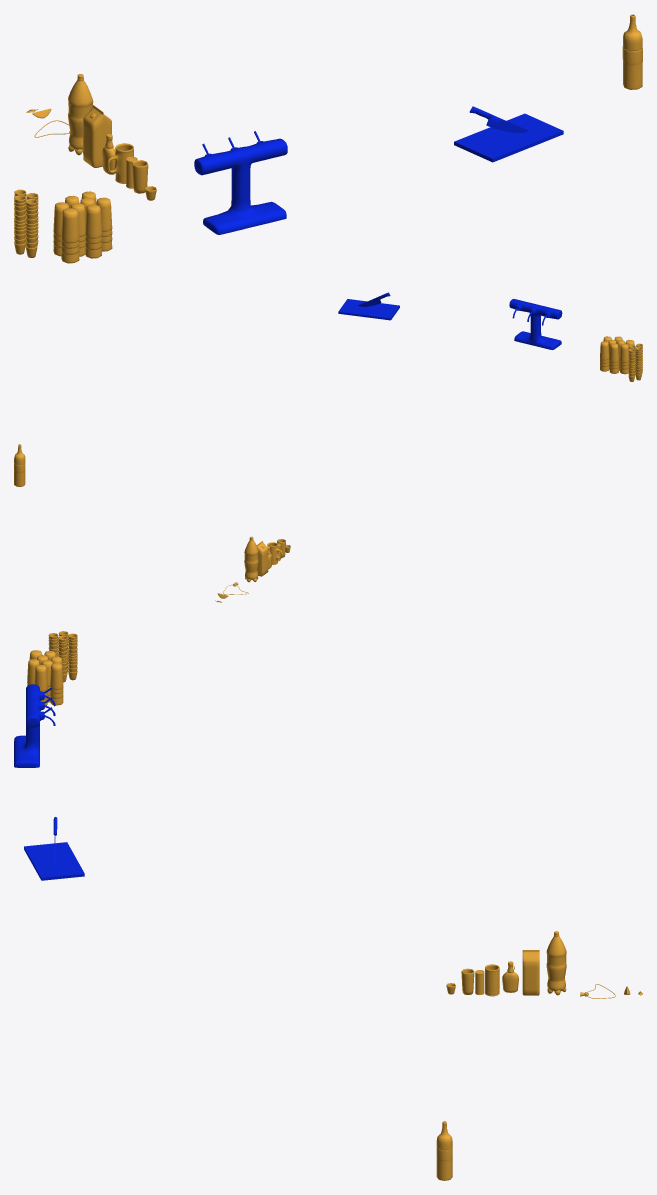
Rendered from Outlined.fbx.
3 renders of one model, top to bottom at view 1: azimuth 30°, elevation 25°; view 2: azimuth 150°, elevation 25°; view 3: azimuth 270°, elevation 25°, orthographic. The views are drawn at different scales.
Visible parts, largest first — view 1: Beer Tap Outline, Tall Glass Outline, CuttingBoard Outline, Shot Glass.003, OJ Outline, Liquor Bottle.008, Soda Outline, Beer Outline, knife Outline, Tall Glass Outline.001, Syrup Outline; view 2: Beer Tap Outline, Tall Glass Outline, CuttingBoard Outline, Shot Glass.003, Soda Outline; view 3: Beer Tap Outline, CuttingBoard Outline, Tall Glass Outline, Soda Outline, Shot Glass.003, Liquor Bottle.008, OJ Outline.
Boxes of the visible parts, x1,y1,x2,y2 form: Beer Tap Outline: (194, 131, 287, 234); Tall Glass Outline: (53, 191, 112, 263); CuttingBoard Outline: (454, 113, 563, 162); Shot Glass.003: (14, 189, 38, 257); OJ Outline: (83, 105, 111, 167); Liquor Bottle.008: (622, 14, 642, 89); Soda Outline: (68, 74, 93, 149); Beer Outline: (107, 143, 133, 183); knife Outline: (469, 106, 529, 132); Tall Glass Outline.001: (132, 160, 148, 193); Syrup Outline: (102, 134, 115, 174); Beer Tap Outline: (509, 299, 562, 349); Tall Glass Outline: (600, 336, 634, 374); CuttingBoard Outline: (338, 299, 399, 320); Shot Glass.003: (628, 343, 642, 381); Soda Outline: (244, 536, 258, 579); Beer Tap Outline: (14, 684, 55, 767); CuttingBoard Outline: (24, 842, 84, 880); Tall Glass Outline: (27, 650, 63, 705); Soda Outline: (546, 931, 566, 991); Shot Glass.003: (48, 631, 77, 680); Liquor Bottle.008: (436, 1121, 452, 1180); OJ Outline: (522, 950, 539, 995).
Bounding box in the file's own units: 471 × 375 × 151.
